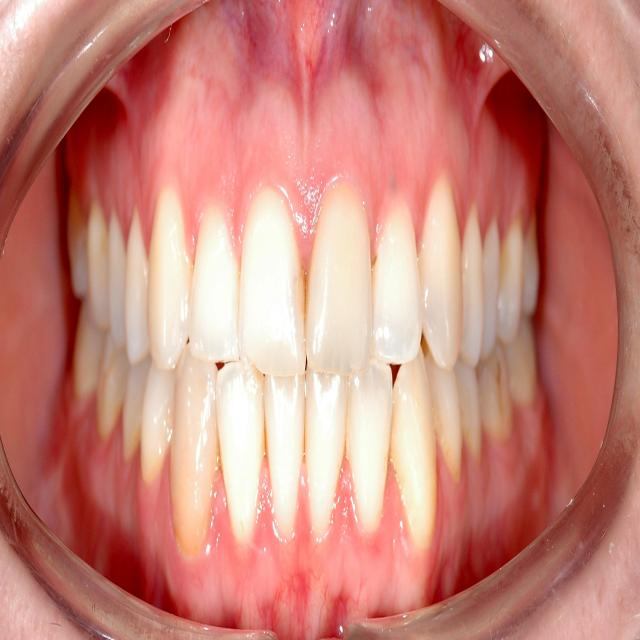tooth: (235, 197, 306, 380), (310, 181, 372, 382), (212, 351, 263, 545), (415, 197, 469, 375), (392, 369, 440, 562), (189, 217, 241, 373), (179, 355, 215, 565), (352, 371, 396, 523), (150, 208, 188, 374), (272, 381, 304, 570), (379, 218, 422, 352), (311, 376, 341, 552), (433, 364, 464, 474), (127, 210, 151, 348), (465, 212, 486, 360), (142, 370, 171, 466), (109, 213, 129, 341), (89, 211, 110, 318)
